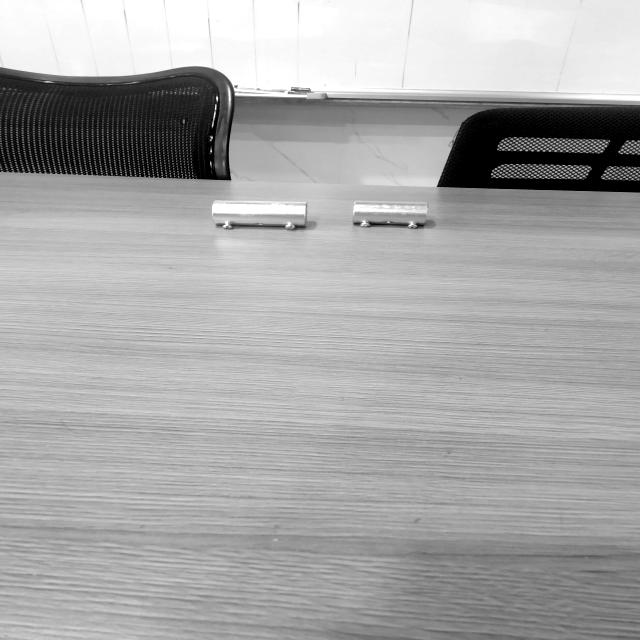Co_Lon: (212, 201, 307, 230)
Co_Nho: (352, 200, 428, 229)
